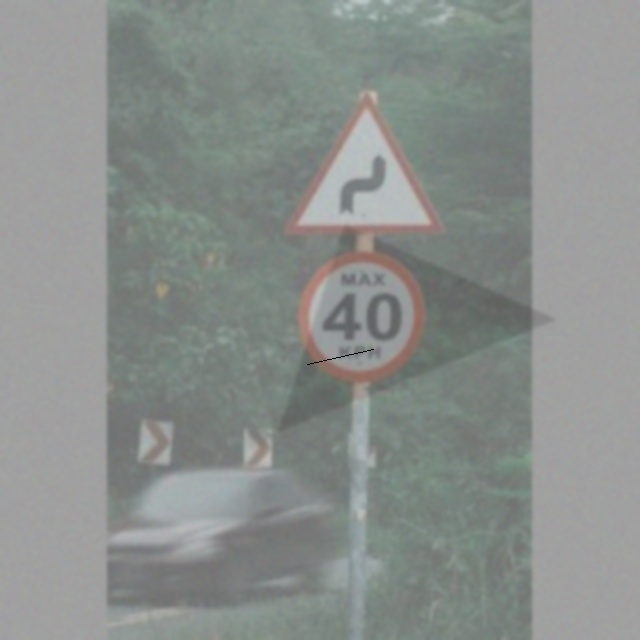Speed_Limit_40: (302, 250, 427, 387)
